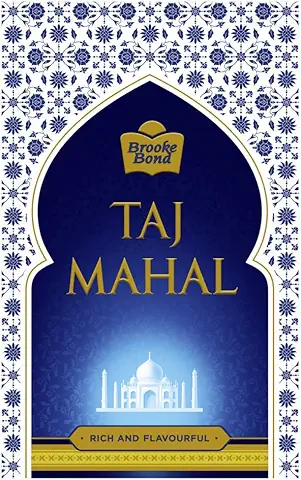Tea: (1, 3, 301, 480)
